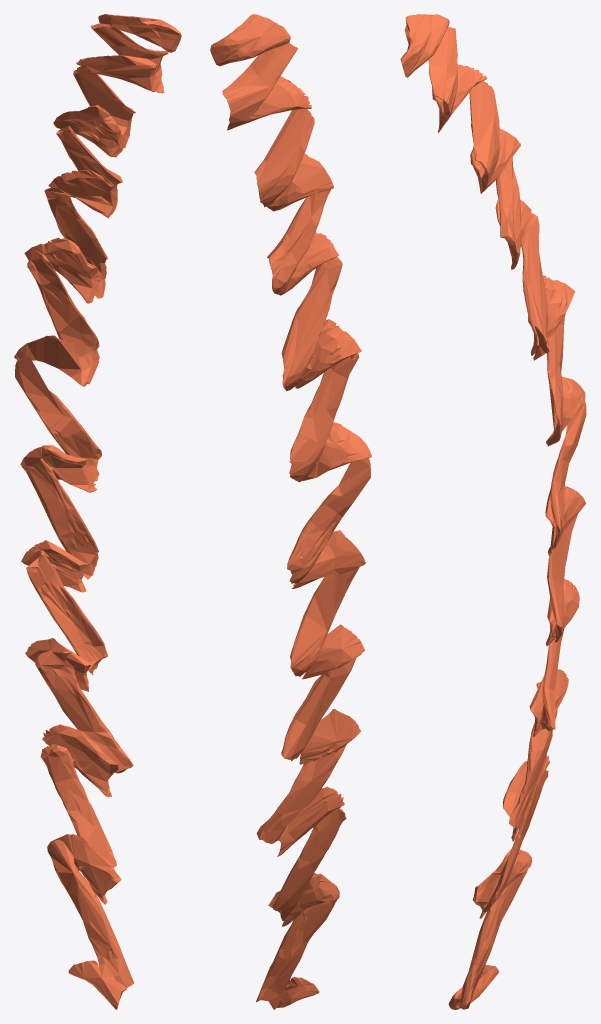
File: Multifidus_thoracis.l_Generated_Mesh_From_X3D.341.glb
The picture shows the model from 3 angles, left to right: view 1: azimuth 30°, elevation 25°; view 2: azimuth 210°, elevation 25°; view 3: azimuth 270°, elevation 25°; orthographic projection. The views are drawn at different scales.
Parts seen in each view (by area): view 1: Multifidus_thoracis.l_Generated_Mesh_From_X3D.341; view 2: Multifidus_thoracis.l_Generated_Mesh_From_X3D.341; view 3: Multifidus_thoracis.l_Generated_Mesh_From_X3D.341.
Boxes of the visible parts, bbox=[...] form: Multifidus_thoracis.l_Generated_Mesh_From_X3D.341: bbox=[14, 14, 181, 1009]; Multifidus_thoracis.l_Generated_Mesh_From_X3D.341: bbox=[210, 14, 371, 1009]; Multifidus_thoracis.l_Generated_Mesh_From_X3D.341: bbox=[400, 14, 586, 1009].
Bounding box in the file's own units: 0.0262 × 0.3079 × 0.0524.
